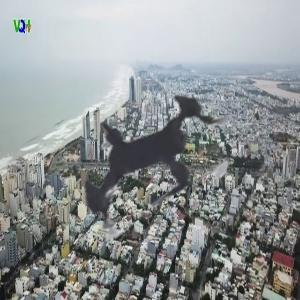drone: (20, 21, 289, 290)
